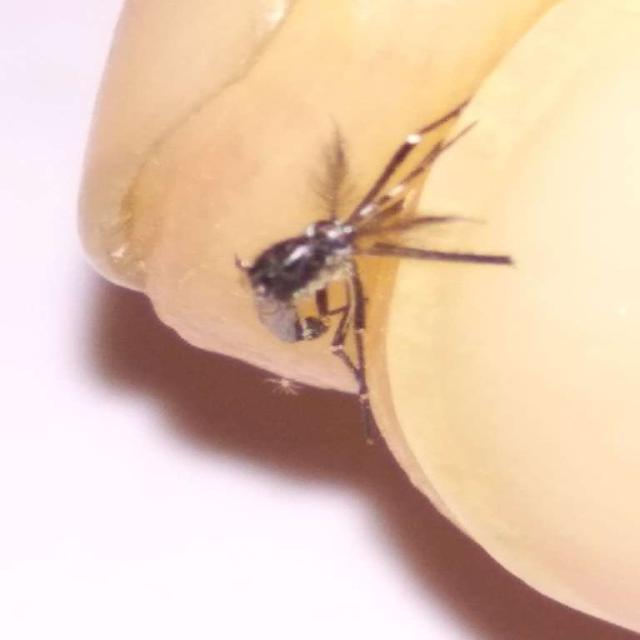albopictus: (191, 66, 544, 462)
